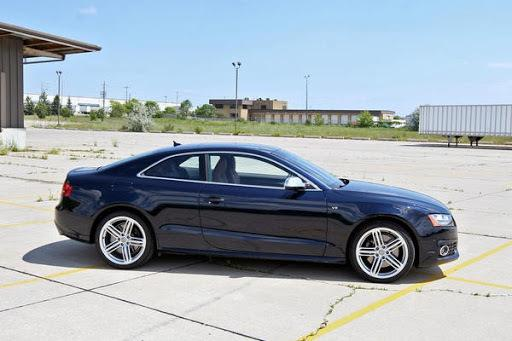Car: (45, 131, 476, 292)
